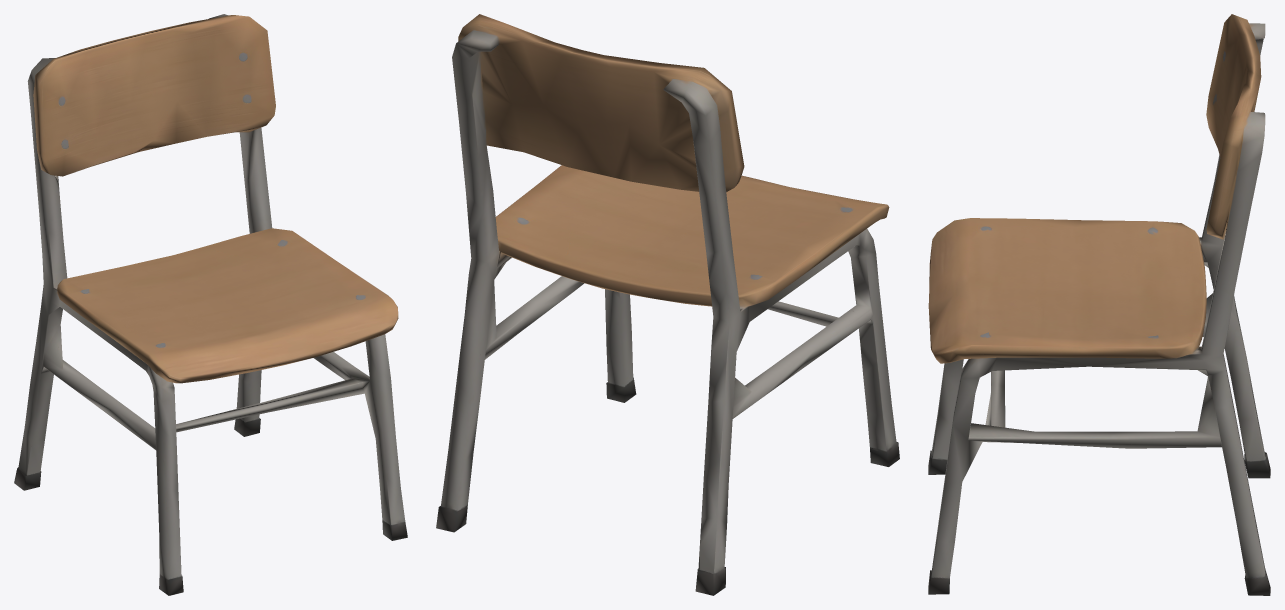
Rendered from ENV_CHAIR_v001_RAW.glb.
The picture shows the model from 3 angles, left to right: view 1: azimuth 30°, elevation 25°; view 2: azimuth 150°, elevation 25°; view 3: azimuth 270°, elevation 25°; orthographic projection. The views are drawn at different scales.
Parts seen in each view (by area): view 1: tripo_node_f7d3a5c3-12c5-4989-9e0f-cc42208e5cde; view 2: tripo_node_f7d3a5c3-12c5-4989-9e0f-cc42208e5cde; view 3: tripo_node_f7d3a5c3-12c5-4989-9e0f-cc42208e5cde.
Part boxes in pixels (x1=…): tripo_node_f7d3a5c3-12c5-4989-9e0f-cc42208e5cde: x1=14, y1=14, x2=407, y2=595; tripo_node_f7d3a5c3-12c5-4989-9e0f-cc42208e5cde: x1=436, y1=14, x2=899, y2=595; tripo_node_f7d3a5c3-12c5-4989-9e0f-cc42208e5cde: x1=928, y1=14, x2=1270, y2=595.
Bounding box in the file's own units: 0.583 × 0.9805 × 0.6483.
1 material, 1 textured.
